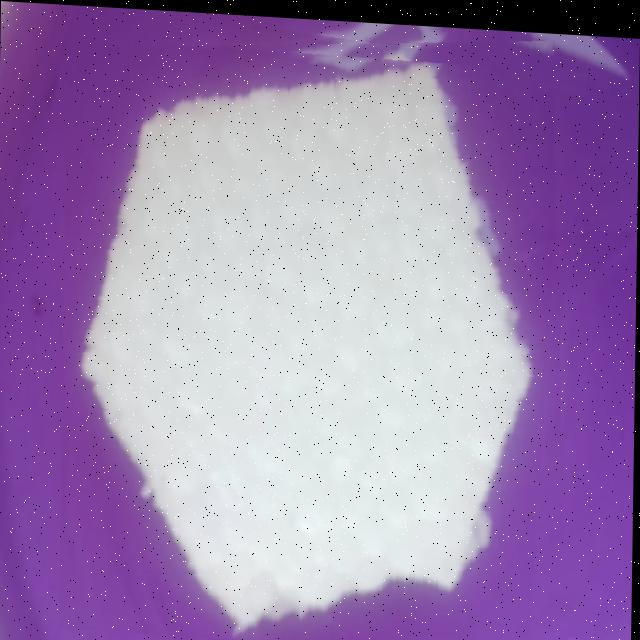thermocoal: (60, 10, 575, 640)
